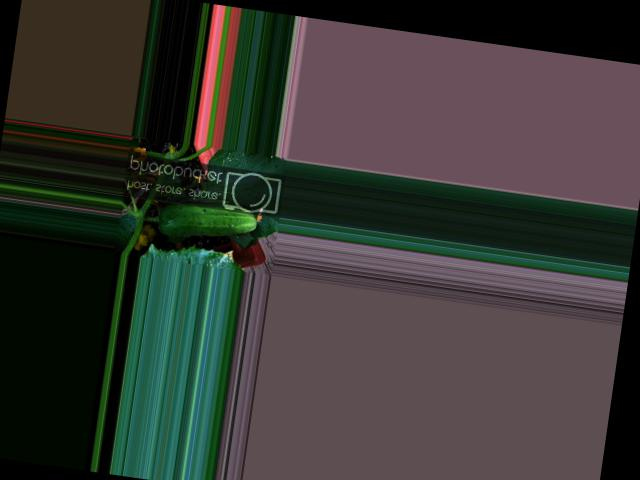cucumber: (157, 194, 260, 247)
